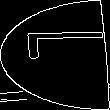L_E: (5, 39, 105, 71)
